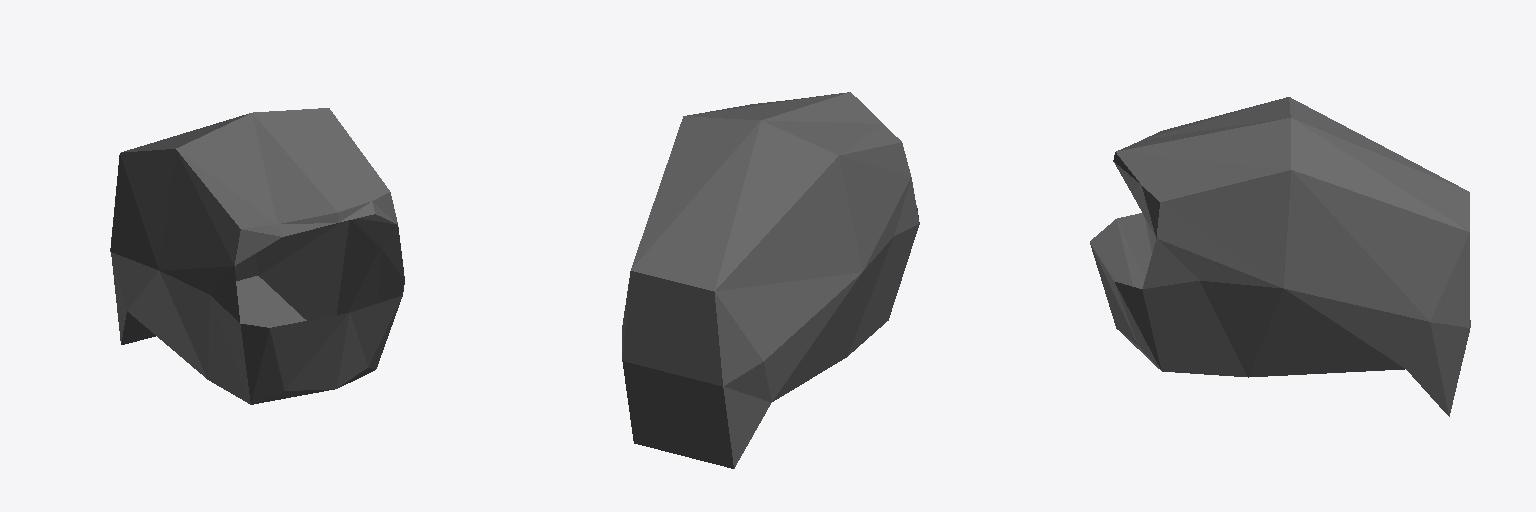
Rendered from beregata.obj.
The picture shows the model from 3 angles: view 1: azimuth 30°, elevation 25°; view 2: azimuth 150°, elevation 25°; view 3: azimuth 270°, elevation 25°; orthographic projection.
Visible parts, largest first — view 1: sock.010; view 2: sock.010; view 3: sock.010.
Boxes of the visible parts, <box> form: sock.010: <box>110,108,404,404</box>; sock.010: <box>622,92,919,468</box>; sock.010: <box>1090,97,1470,416</box>.
Bounding box in the file's own units: 5.45 × 7.56 × 9.39.